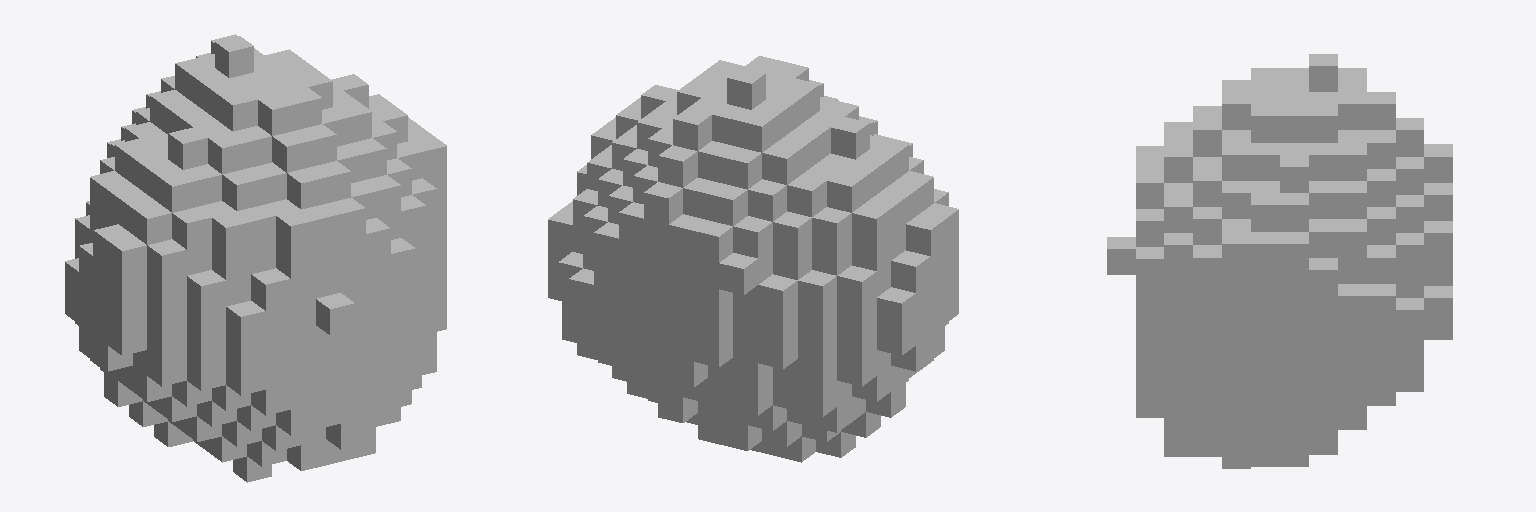
The model's file is asteroid30.obj.
3 views of the same model, side by side, from view 1: azimuth 30°, elevation 25°; view 2: azimuth 150°, elevation 25°; view 3: azimuth 270°, elevation 25° (orthographic).
Visible parts, largest first — view 1: Icosphere; view 2: Icosphere; view 3: Icosphere.
Boxes of the visible parts, box(x1,y1,x2,y2) form: Icosphere: box(65, 34, 446, 482); Icosphere: box(548, 56, 958, 462); Icosphere: box(1107, 54, 1452, 468).
Bounding box in the file's own units: 2.12 × 2.44 × 1.96.